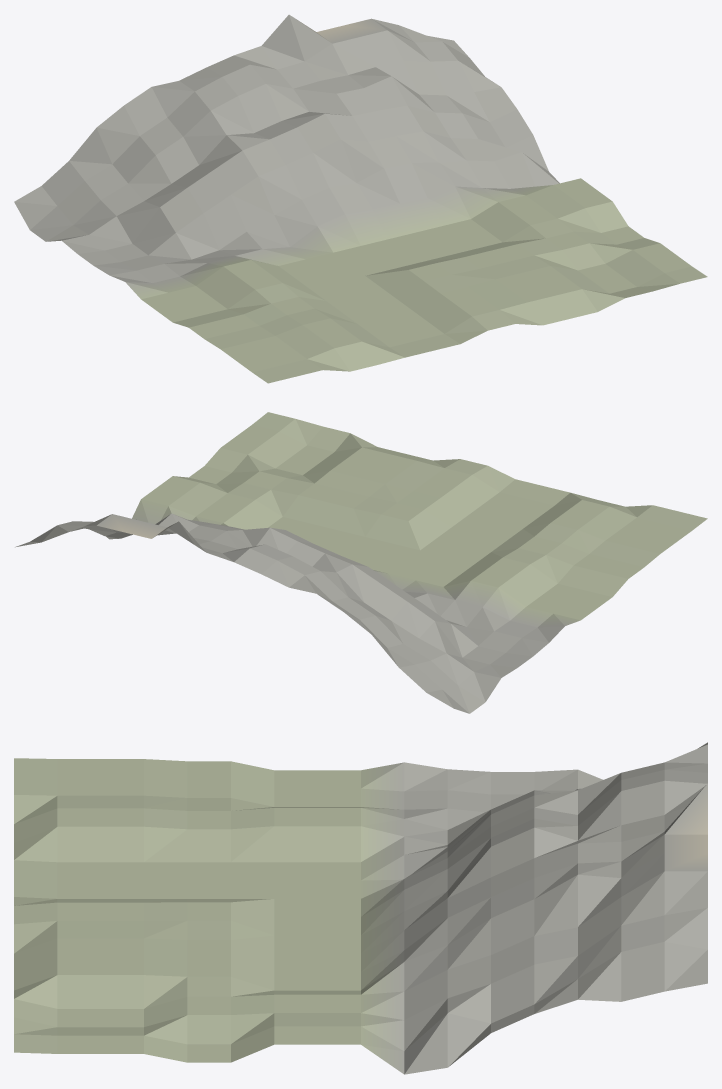
3 renders of one model, top to bottom at view 1: azimuth 30°, elevation 25°; view 2: azimuth 150°, elevation 25°; view 3: azimuth 270°, elevation 25°, orthographic. The views are drawn at different scales.
Size of the model in its own units: 32 by 9.53 by 32.
